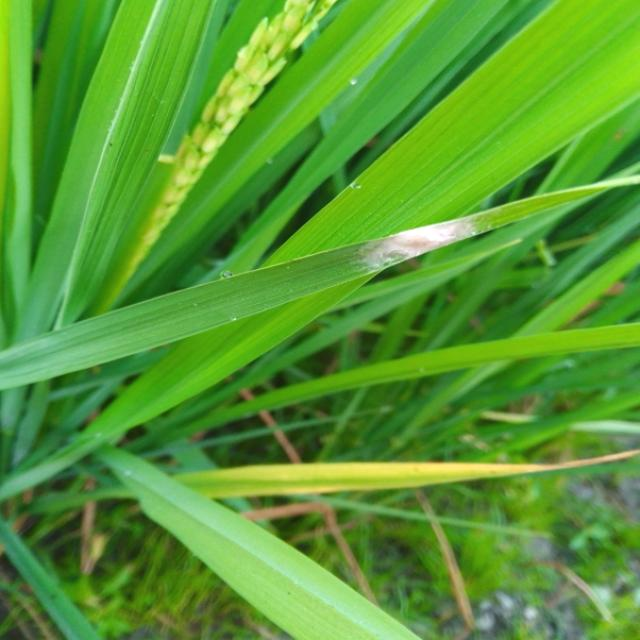brown plant hopper: (344, 190, 502, 272)
